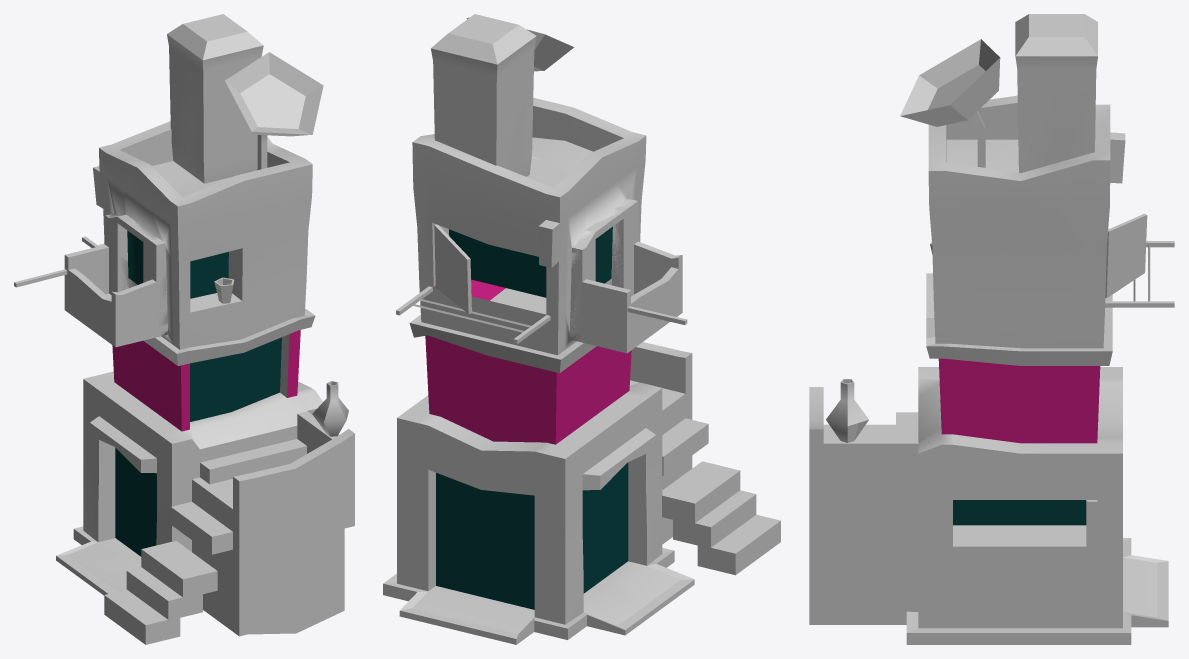
The model's file is building.fbx.
The picture shows the model from 3 angles, left to right: view 1: azimuth 30°, elevation 25°; view 2: azimuth 150°, elevation 25°; view 3: azimuth 270°, elevation 25°; orthographic projection. The views are drawn at different scales.
Visible parts, largest first — view 1: pCube1.001, pCube6.001, pSphere1.001, pCube3.001, pCube5.001, pCube4.001, pCylinder3.001; view 2: pCube1.001, pCube6.001, pCube3.001, pCube5.001, pCube4.001, pCube8.001, pSphere1.001; view 3: pCube1.001, pSphere1.001, pCube8.001, pCylinder3.001.
Part boxes in pixels (left/top/right/bottom): pCube1.001: left=56, top=14, right=354, bottom=643; pCube6.001: left=64, top=214, right=167, bottom=347; pSphere1.001: left=225, top=52, right=323, bottom=136; pCube3.001: left=141, top=541, right=217, bottom=598; pCube5.001: left=104, top=595, right=180, bottom=644; pCube4.001: left=126, top=567, right=202, bottom=614; pCylinder3.001: left=312, top=381, right=348, bottom=436; pCube1.001: left=383, top=14, right=778, bottom=644; pCube6.001: left=569, top=199, right=682, bottom=353; pCube3.001: left=662, top=461, right=740, bottom=523; pCube5.001: left=697, top=514, right=780, bottom=575; pCube4.001: left=673, top=490, right=756, bottom=548; pCube8.001: left=434, top=224, right=471, bottom=313; pSphere1.001: left=466, top=17, right=574, bottom=70; pCube1.001: left=809, top=14, right=1168, bottom=644; pSphere1.001: left=900, top=39, right=1000, bottom=126; pCube8.001: left=1105, top=214, right=1147, bottom=298; pCylinder3.001: left=826, top=379, right=868, bottom=442.
Size of the model in its own units: 697 by 1361 by 752.
